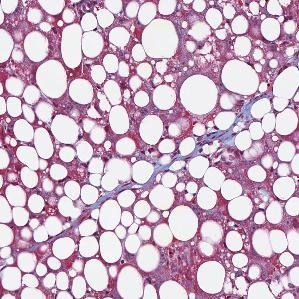fibrosis: (198, 121, 237, 155)
